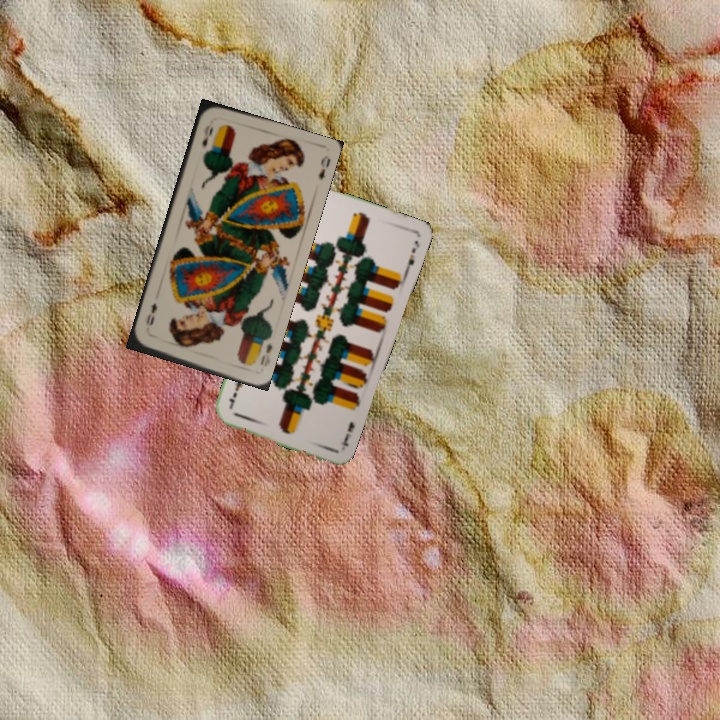E7: (337, 418, 357, 449)
EO: (256, 340, 275, 369), (198, 121, 216, 149)
